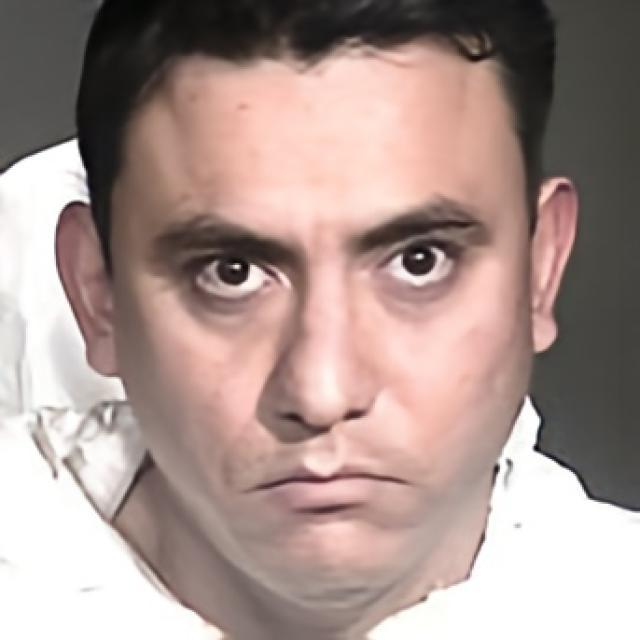anger: (116, 31, 530, 594)
